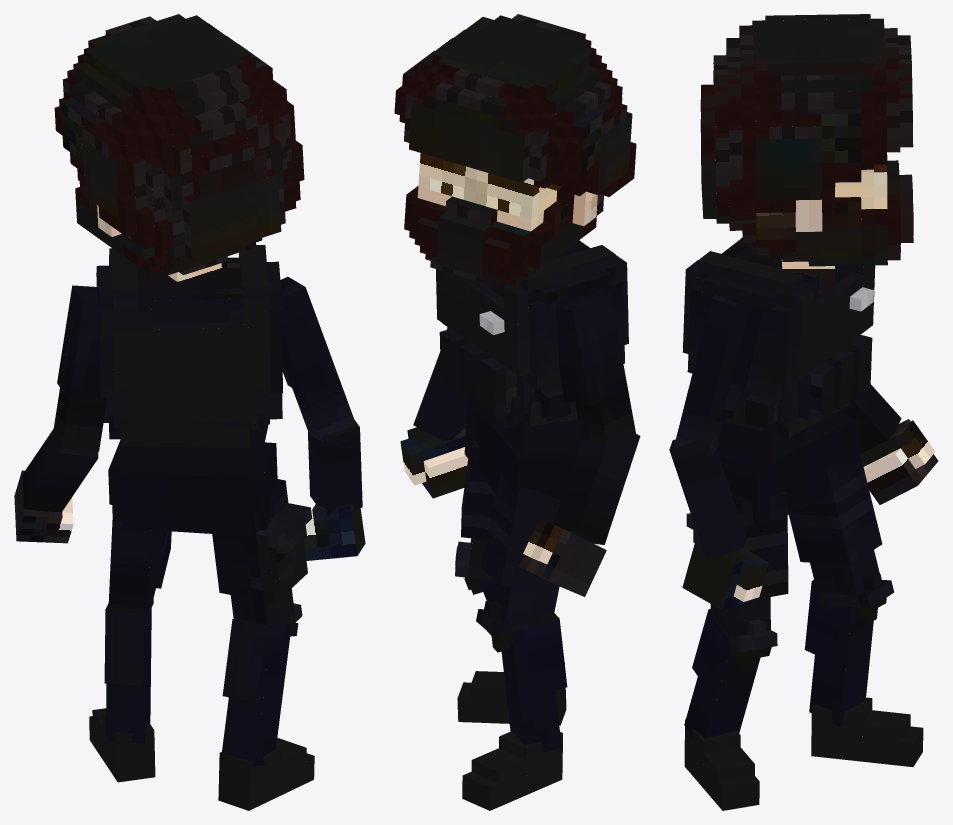
Rendered from head-of-security.glb.
3 renders of one model, left to right at view 1: azimuth 30°, elevation 25°; view 2: azimuth 150°, elevation 25°; view 3: azimuth 270°, elevation 25°, orthographic.
Parts seen in each view (by area): view 1: Belly-Local; view 2: Belly-Local; view 3: Belly-Local.
Boxes of the visible parts, box(x1,y1,x2,y2) form: Belly-Local: box(14, 14, 365, 810); Belly-Local: box(394, 14, 640, 810); Belly-Local: box(669, 14, 938, 810).
Size of the model in its own units: 2.09 by 5.39 by 1.8.
Materials: 14 (14 with a texture image).
